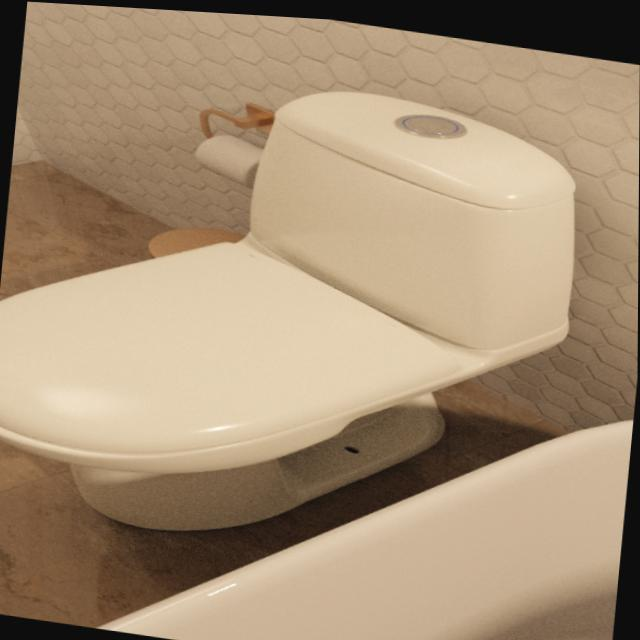toilet: (0, 39, 589, 581)
